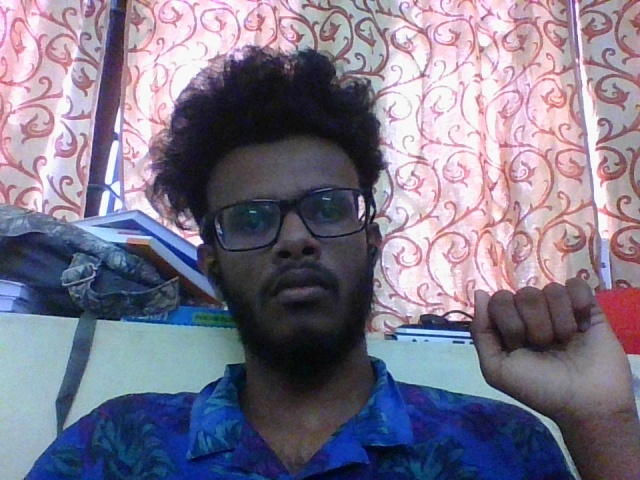yes: (434, 271, 640, 480)
